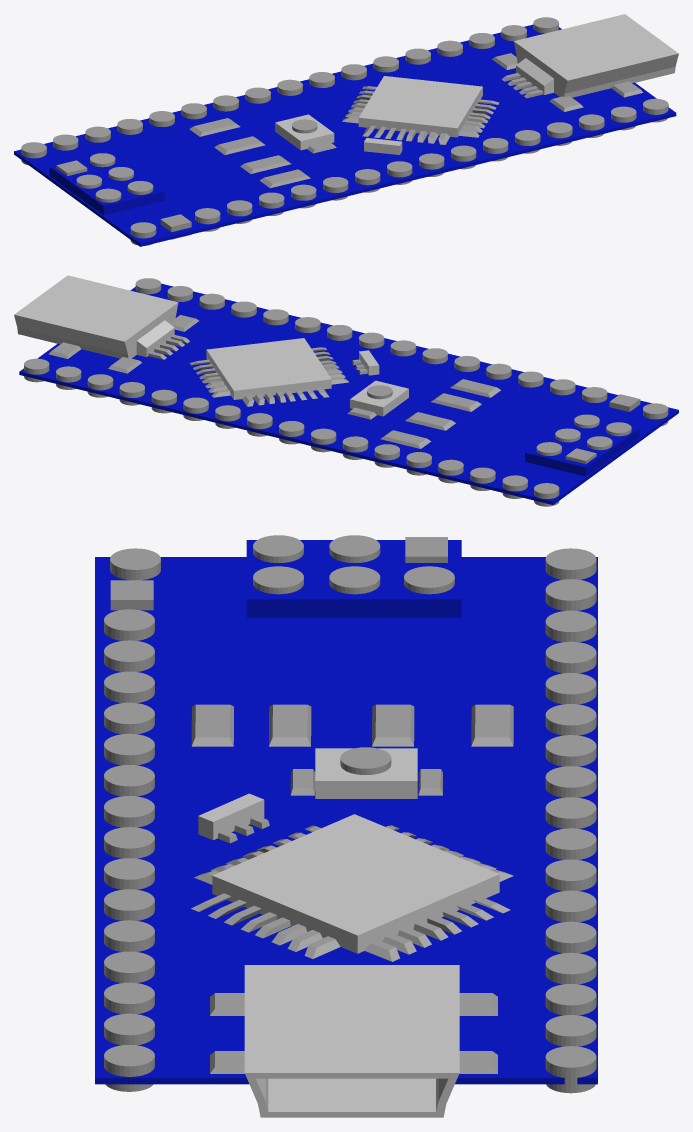
File: arduino-nano.obj
3 views of the same model, one above another, from view 1: azimuth 30°, elevation 25°; view 2: azimuth 150°, elevation 25°; view 3: azimuth 270°, elevation 25° (orthographic). The views are drawn at different scales.
Visible parts, largest first — view 1: Plane; view 2: Plane; view 3: Plane.
Part boxes in pixels (box(x1,y1,x2,y2)): Plane: box(14, 14, 678, 246); Plane: box(14, 275, 678, 506); Plane: box(95, 535, 597, 1117).
Size of the model in its own units: 2.28 by 0.1116 by 0.8643.
